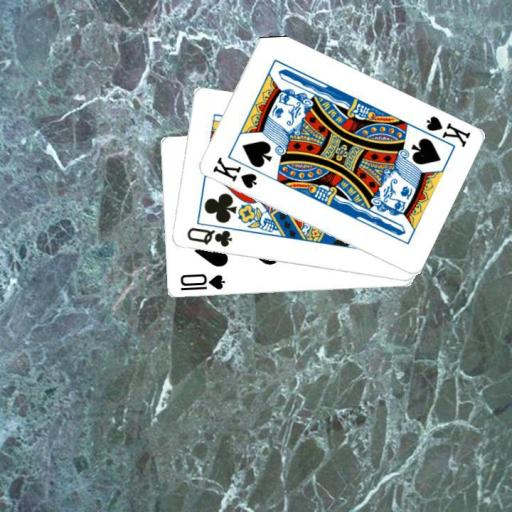10S: (176, 271, 226, 293)
KS: (414, 112, 471, 150), (209, 154, 258, 191)
QC: (184, 225, 234, 249)
